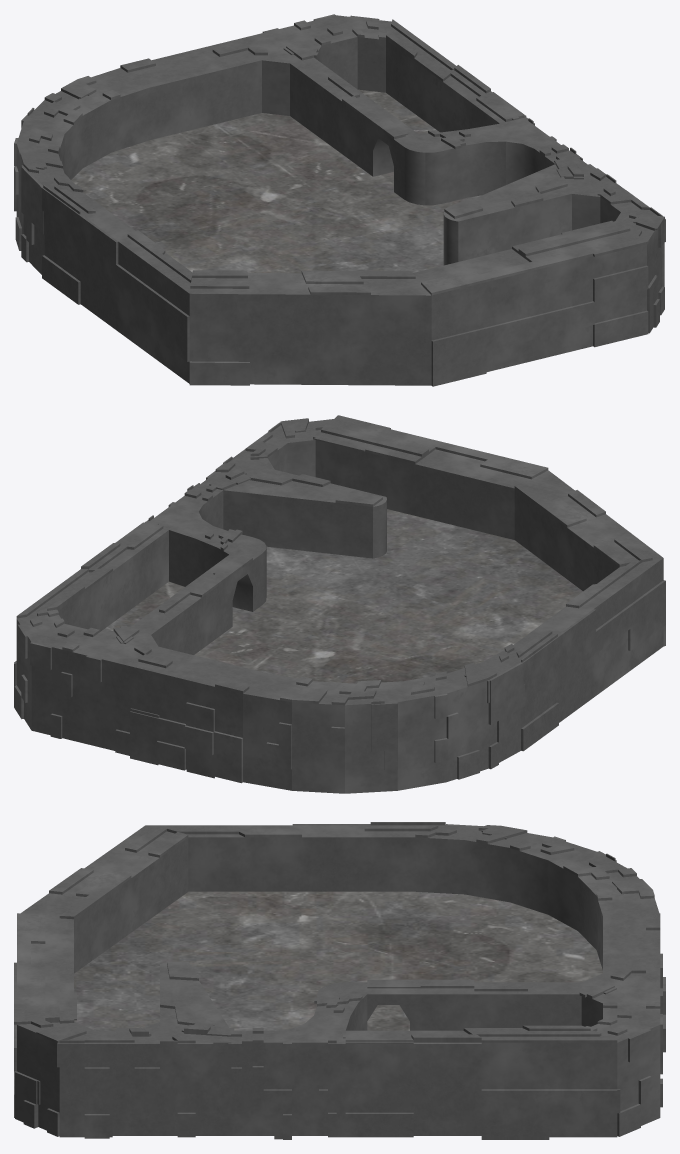
File: PlayfieldRotated.fbx
3 views of the same model, one above another, from view 1: azimuth 30°, elevation 25°; view 2: azimuth 150°, elevation 25°; view 3: azimuth 270°, elevation 25° (orthographic). The views are drawn at different scales.
Parts seen in each view (by area): view 1: PlayfieldStructure, PlayfieldFloor, PlayfieldWalls; view 2: PlayfieldStructure, PlayfieldFloor, PlayfieldWalls; view 3: PlayfieldStructure, PlayfieldFloor, PlayfieldWalls.
Boxes of the visible parts, <box> form: PlayfieldStructure: <box>14,14,665,386</box>; PlayfieldFloor: <box>71,89,480,273</box>; PlayfieldWalls: <box>58,37,620,265</box>; PlayfieldStructure: <box>14,415,665,793</box>; PlayfieldFloor: <box>100,509,582,683</box>; PlayfieldWalls: <box>58,440,619,654</box>; PlayfieldStructure: <box>14,822,665,1139</box>; PlayfieldFloor: <box>74,891,602,1030</box>; PlayfieldWalls: <box>74,837,602,1030</box>.
Bounding box in the file's own units: 3662 × 4560 × 780.
